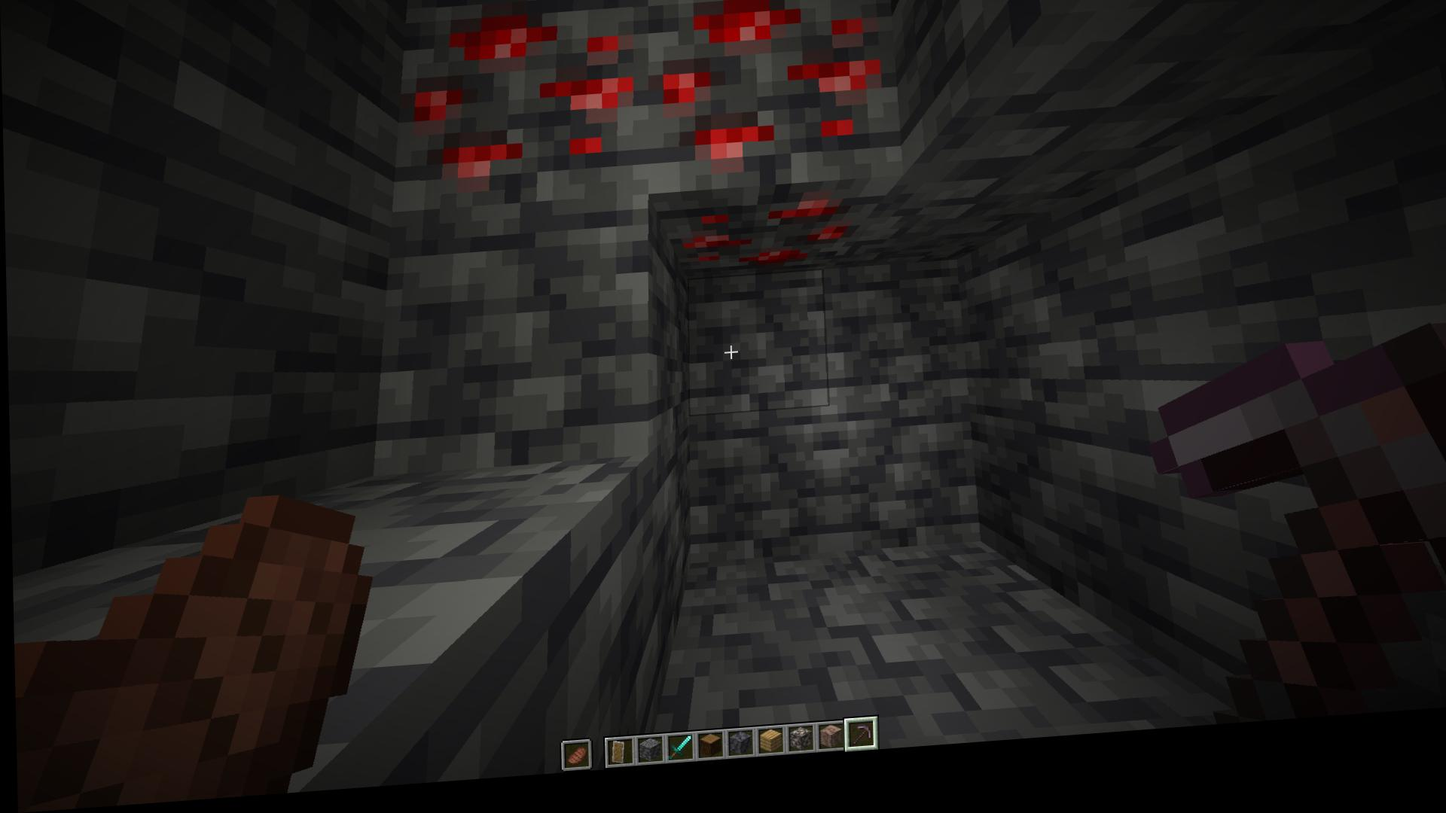redstone ore: (399, 0, 646, 223), (646, 0, 891, 200), (665, 200, 852, 284)
